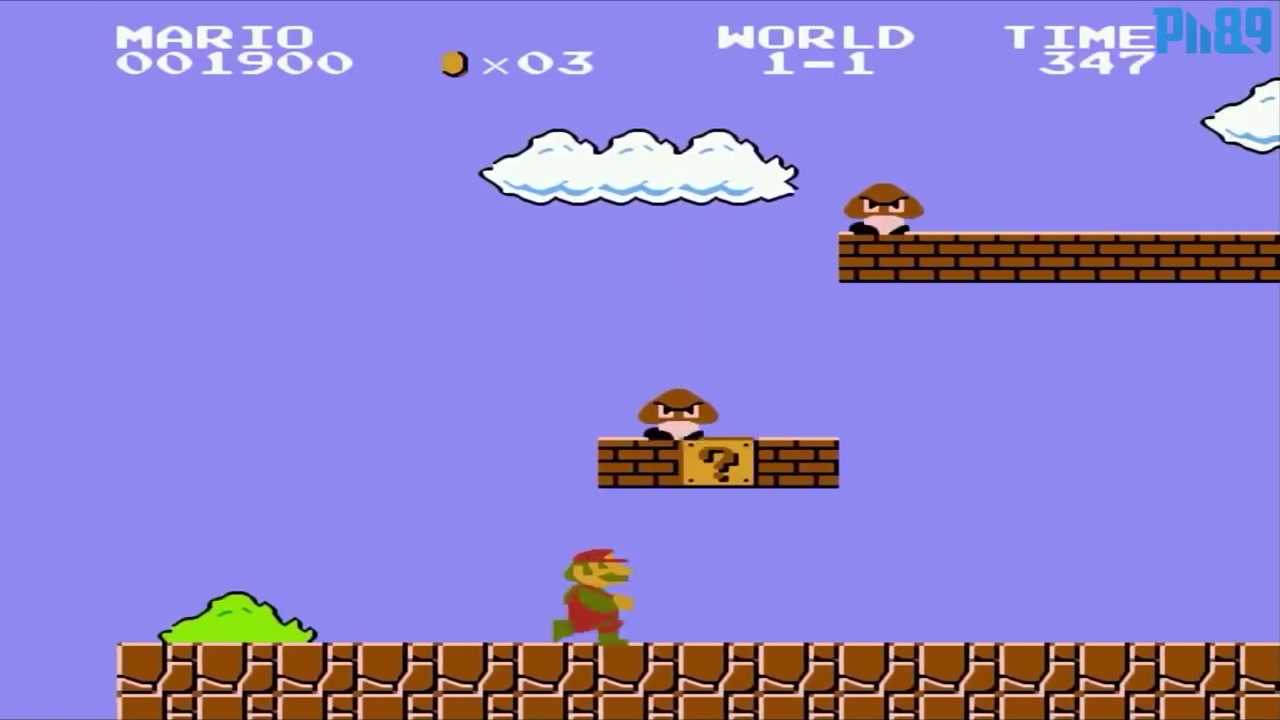mario: (540, 538, 650, 650)
